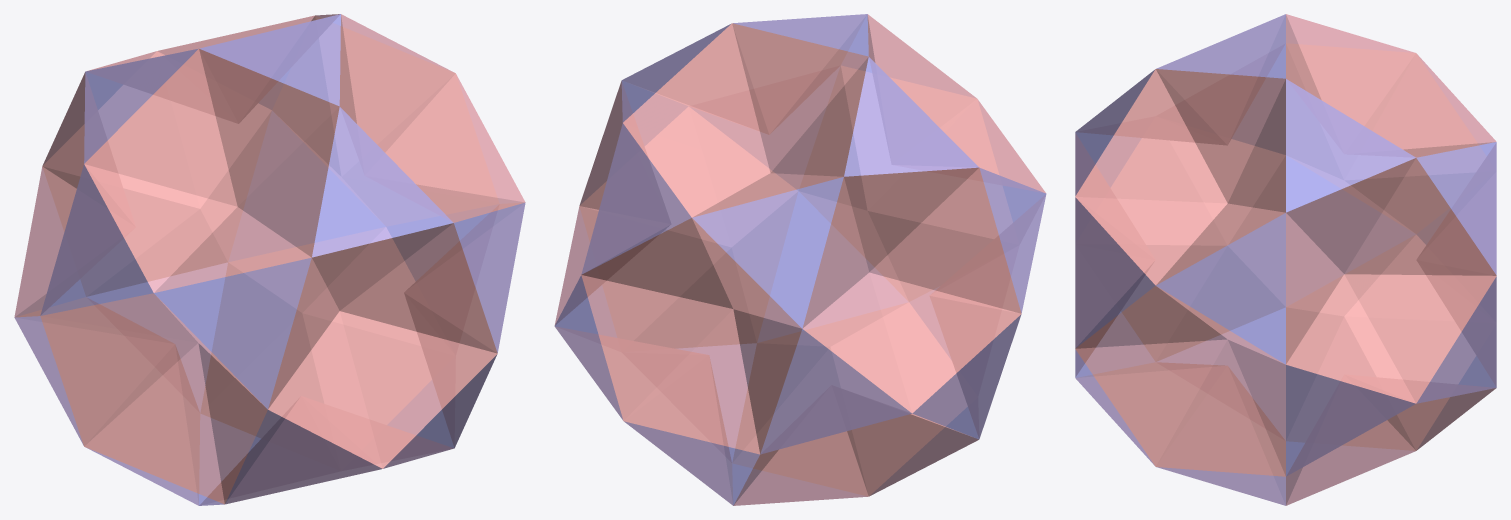
The model's file is 13_Dodekexcavated_Icosidodecahedron.obj.
3 renders of one model, left to right at view 1: azimuth 30°, elevation 25°; view 2: azimuth 150°, elevation 25°; view 3: azimuth 270°, elevation 25°, orthographic. The views are drawn at different scales.
Bounding box in the file's own units: 3.24 × 3.08 × 2.75.
